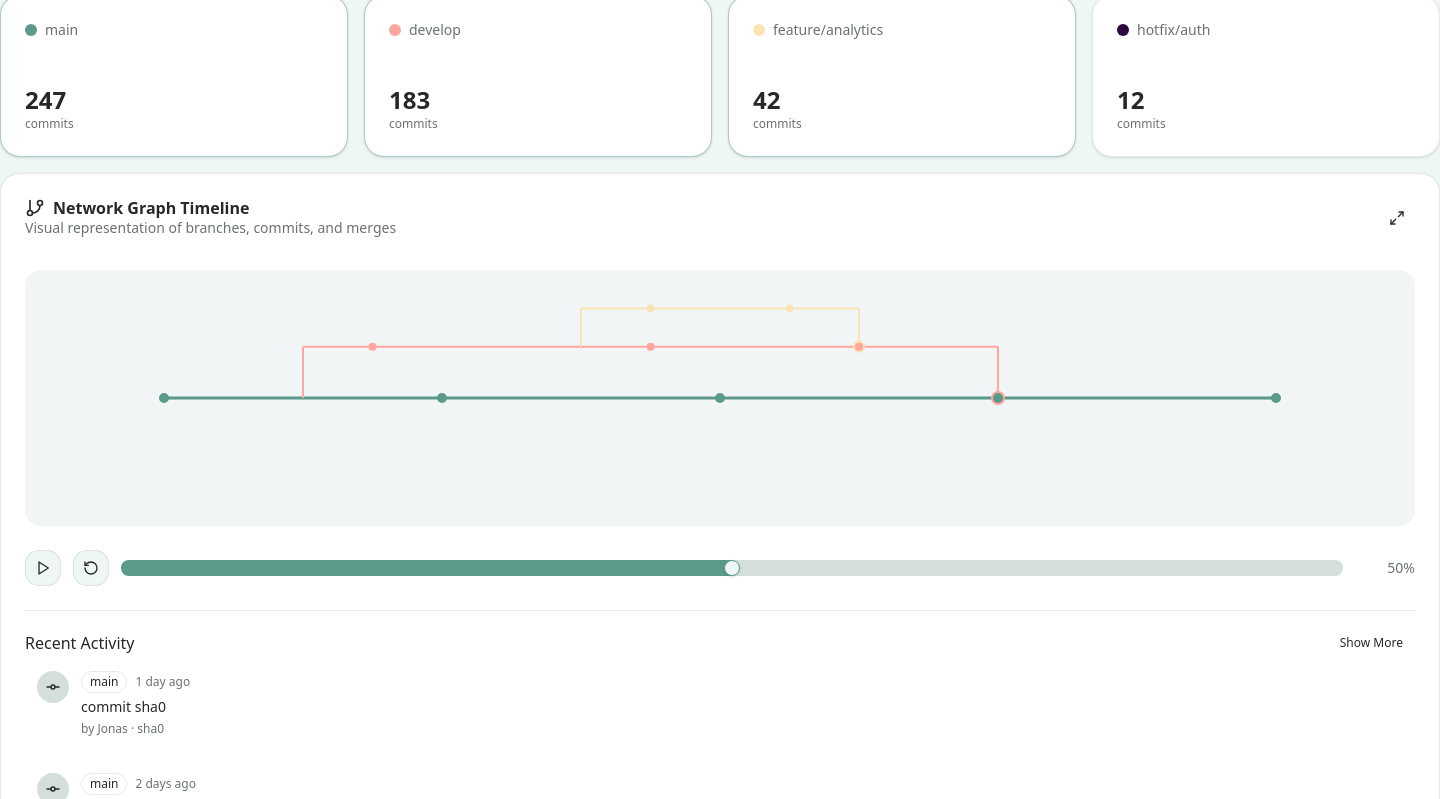
Test case: GraphViewTimeline Component › should show more than 5 commits after clicking Show More
Click the button "Show More".
click(1371, 643)  # box [1328,627,1415,659]
(page scrolled)
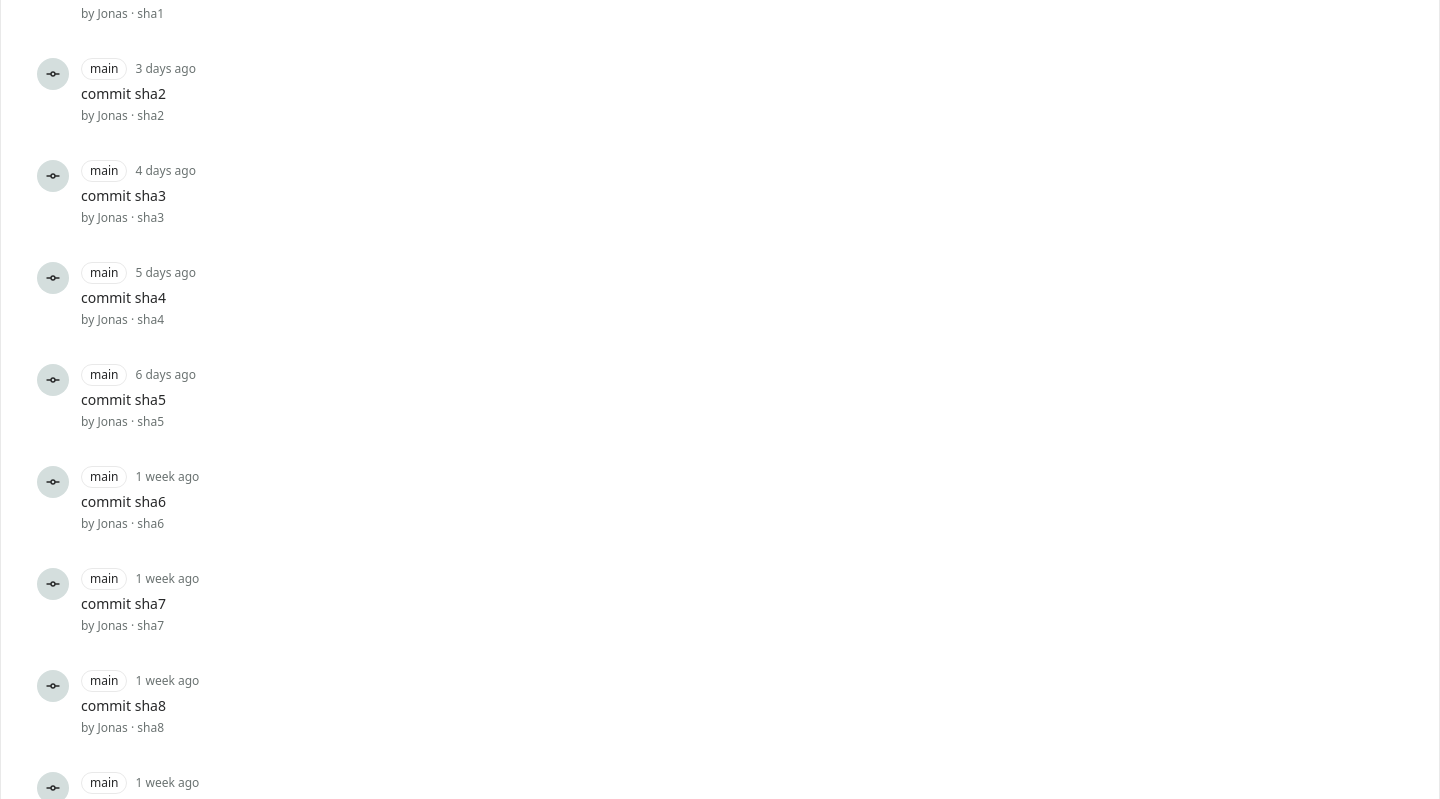
Expected: the text "commit sha5" is shown, [81,390,166,409]
